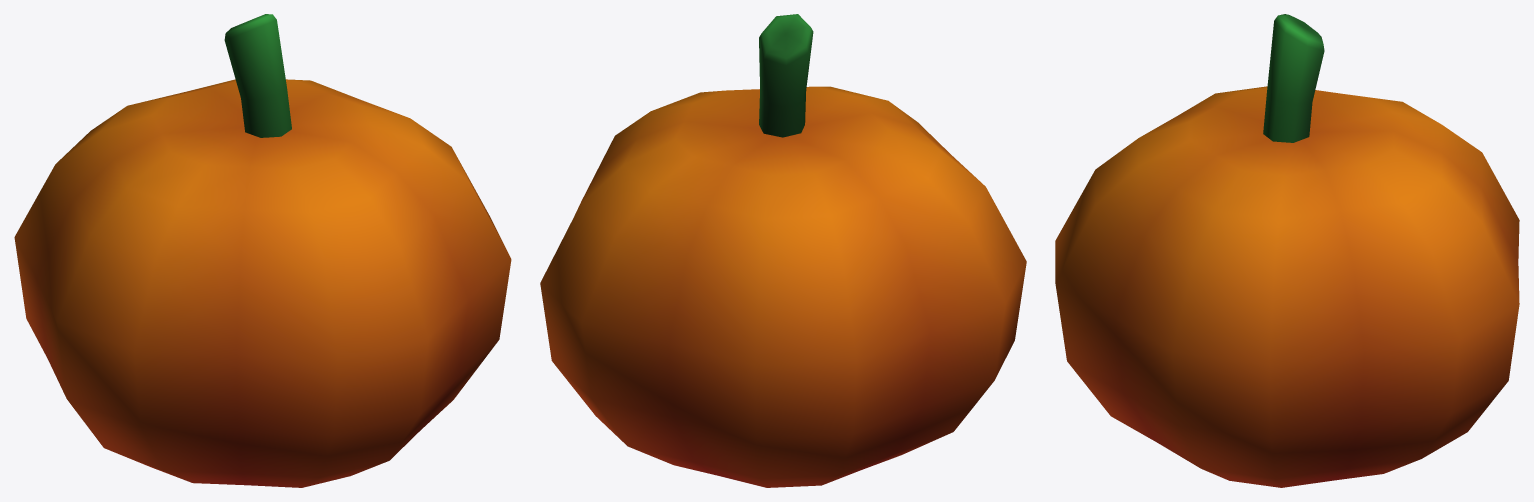
File: SM_Pumpkin_A.fbx
The picture shows the model from 3 angles, left to right: view 1: azimuth 30°, elevation 25°; view 2: azimuth 150°, elevation 25°; view 3: azimuth 270°, elevation 25°; orthographic projection. The views are drawn at different scales.
Parts seen in each view (by area): view 1: SM_Pumpkin_A; view 2: SM_Pumpkin_A; view 3: SM_Pumpkin_A.
Boxes of the visible parts, <box> form: SM_Pumpkin_A: <box>14,14,511,487</box>; SM_Pumpkin_A: <box>540,14,1026,487</box>; SM_Pumpkin_A: <box>1055,14,1519,487</box>.
Size of the model in its own units: 34.72 by 33.44 by 33.02.
